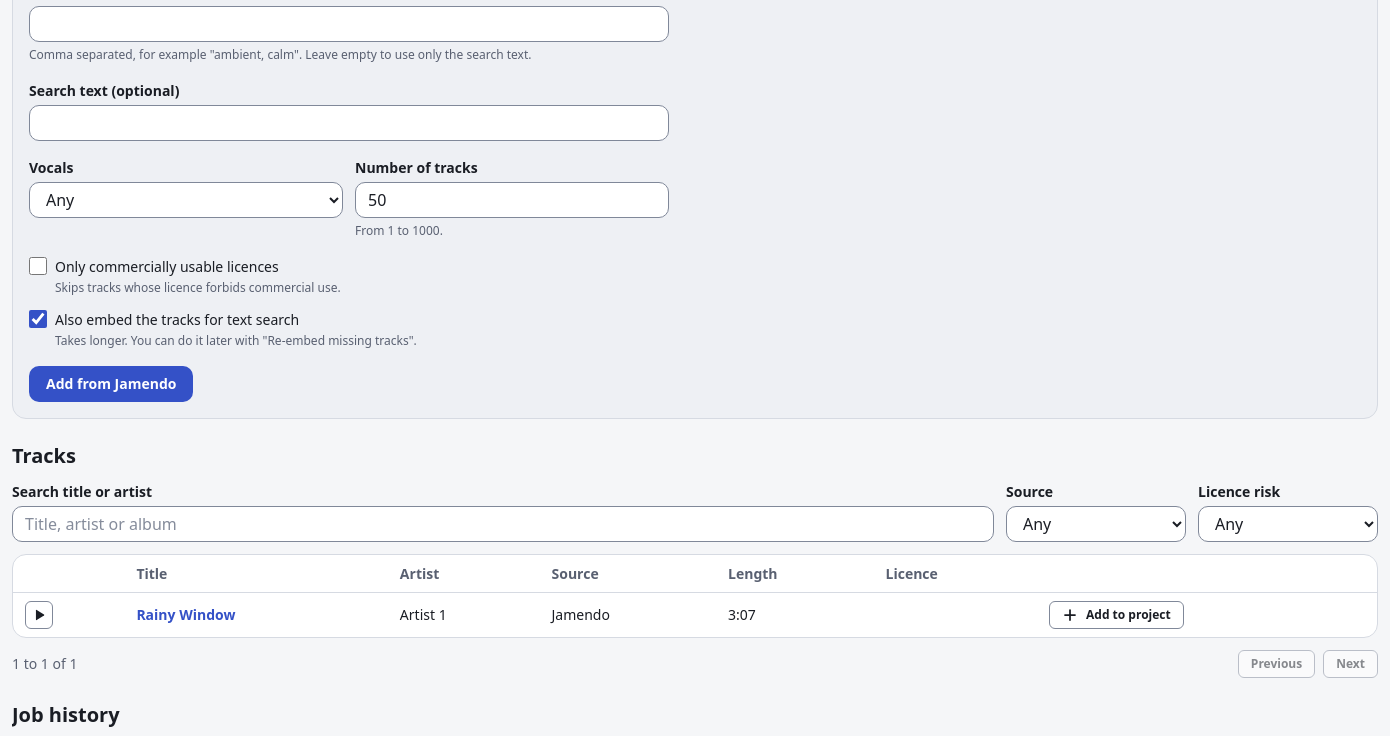
Test: Library jobs › explains a 409 and leads to the running job
The width and height of the screenshot is (1390, 736).
(page scrolled)
Click the button "Add from Jamendo": (111, 384) x1=29 y1=366 x2=193 y2=402
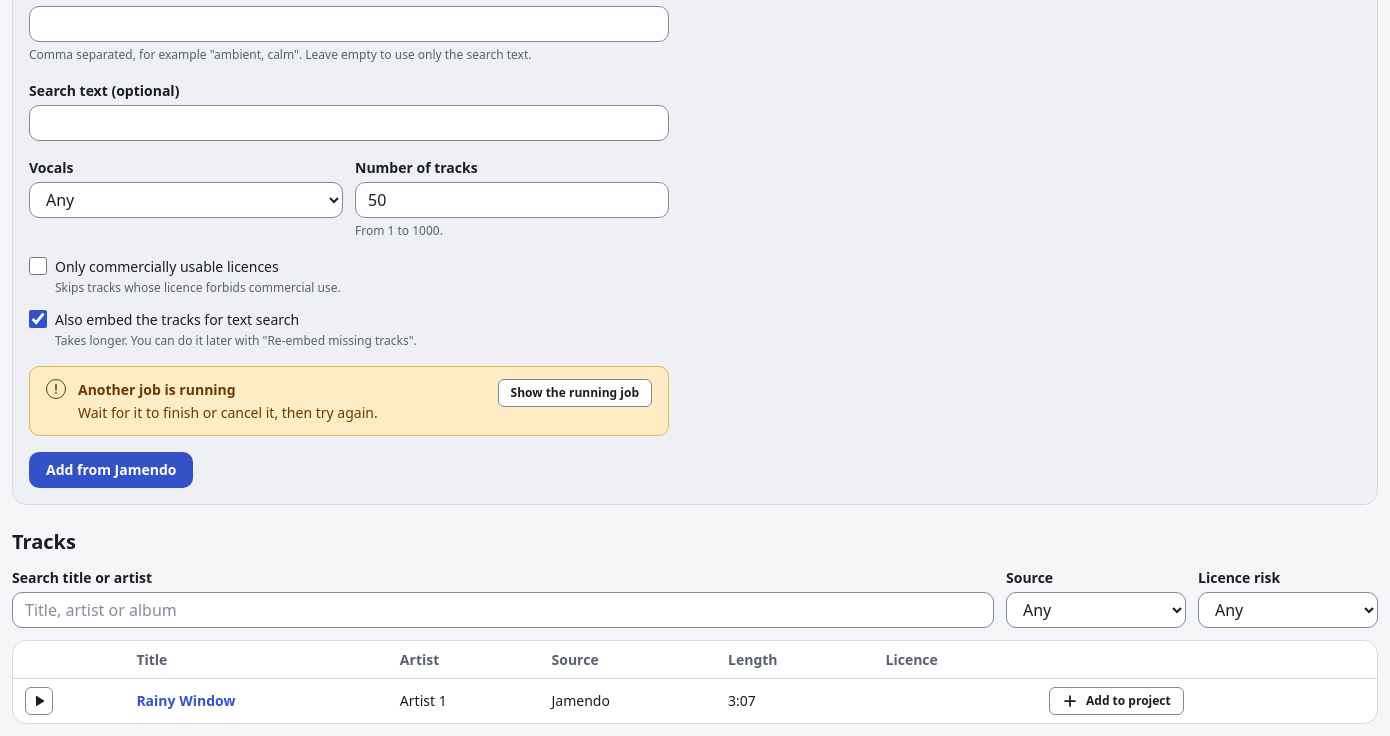
Expected: the text "Another job is running" is shown, x1=78 y1=380 x2=236 y2=398
Click the button "Show the running job": (575, 392) x1=498 y1=378 x2=652 y2=406
(page scrolled)
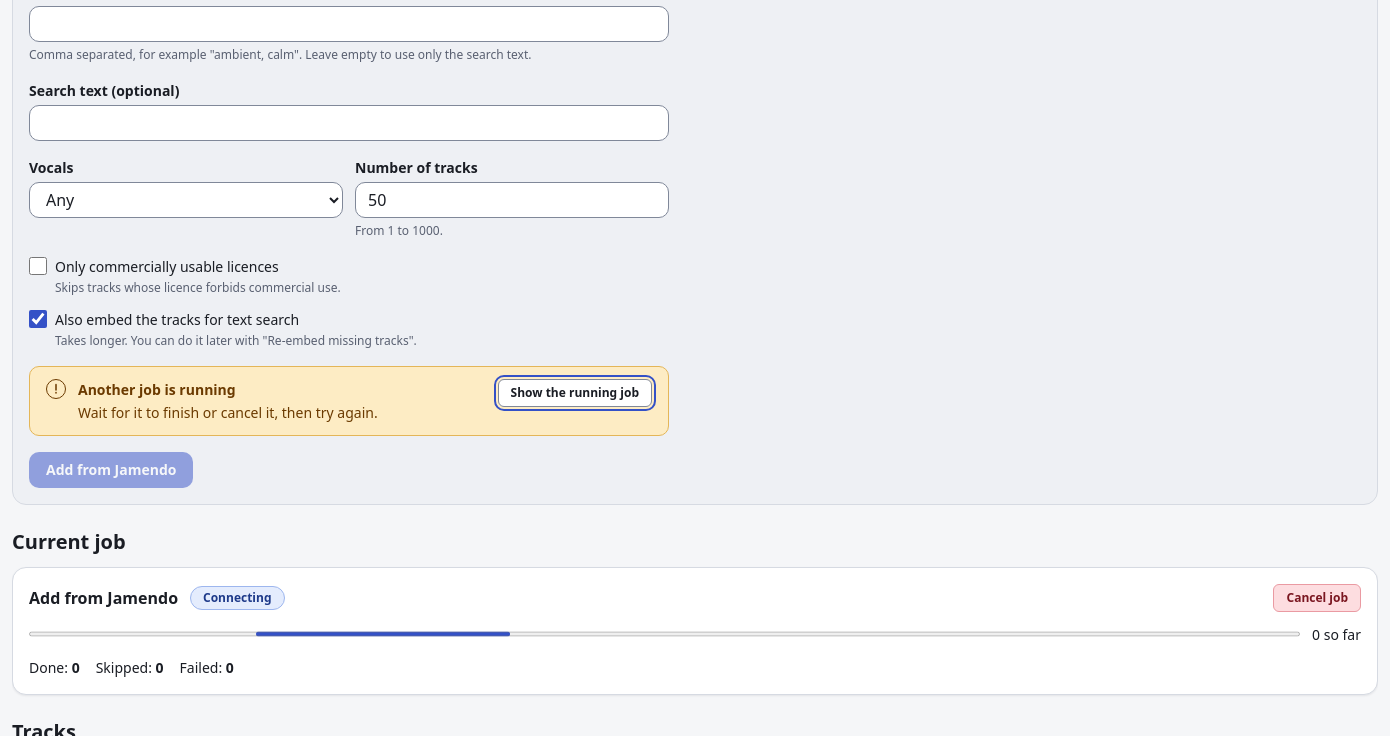
Expected: the element named "Job progress" is shown, x1=12 y1=566 x2=1378 y2=694
